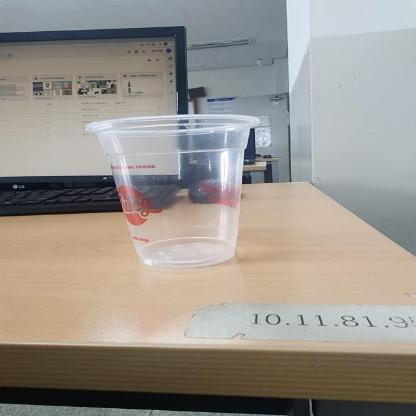Plastic Cup: (83, 114, 263, 270)
